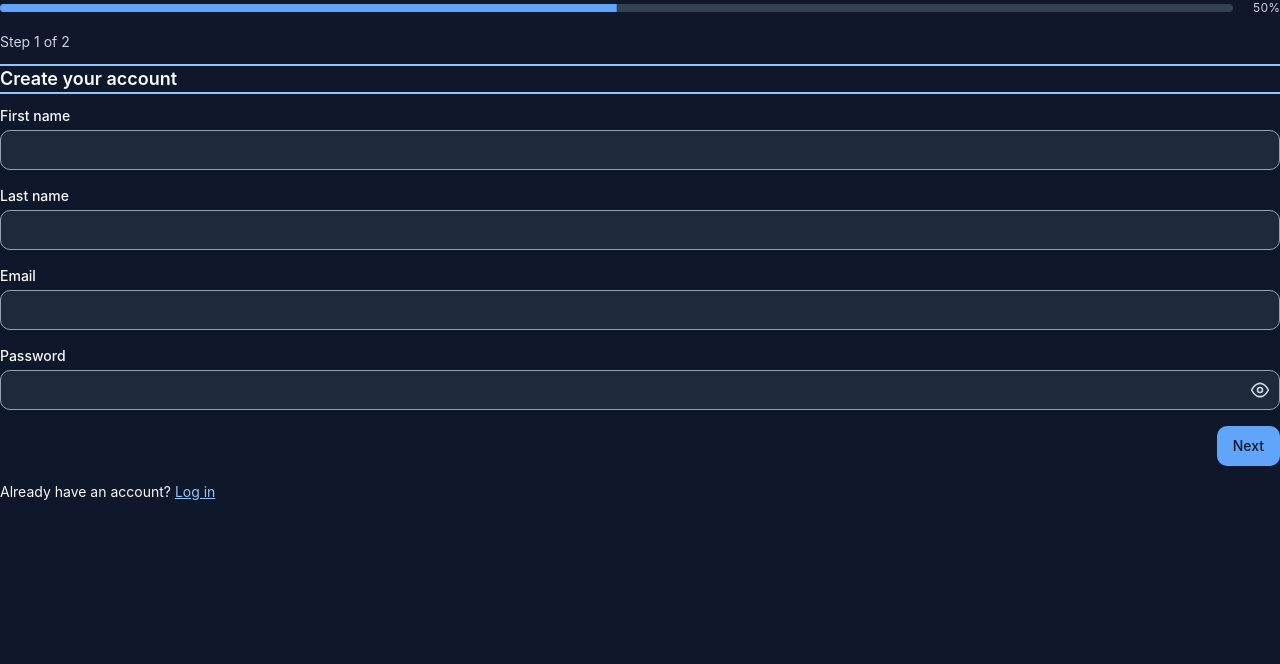
Test: MT-01 registration wizard › shows company and job title only when employed or freelance
The image size is (1280, 664).
Type "Ada" into the field labelled "First name". click: (640, 150)
box: [0,130,1279,170]
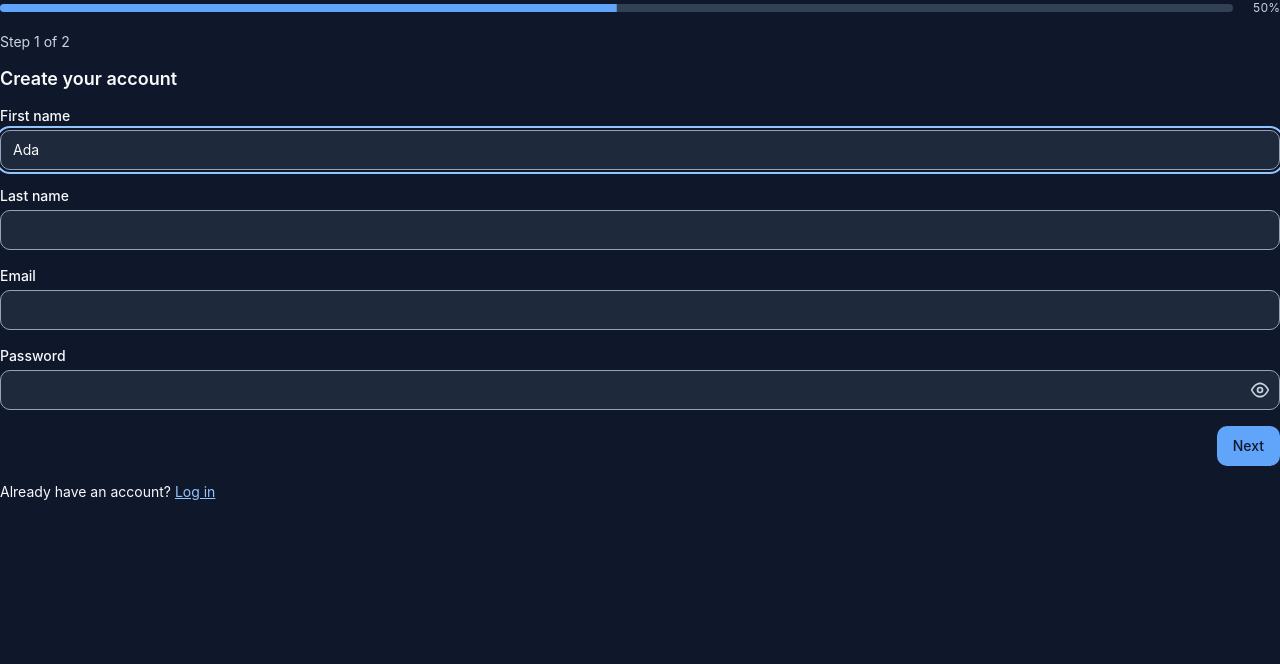
Type "Lovelace" into the field labelled "Last name". click: (640, 230)
box: [0,210,1279,250]
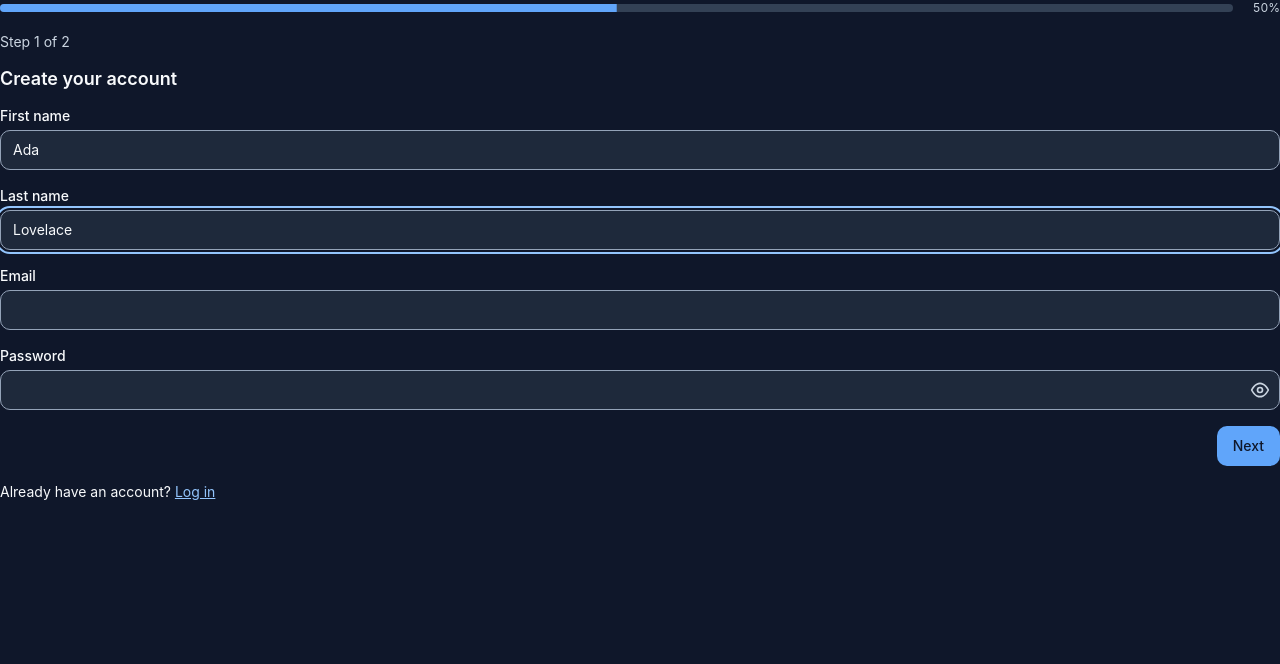
Type "ada@example.com" into the field labelled "Email". click: (640, 310)
box: [0,290,1279,330]
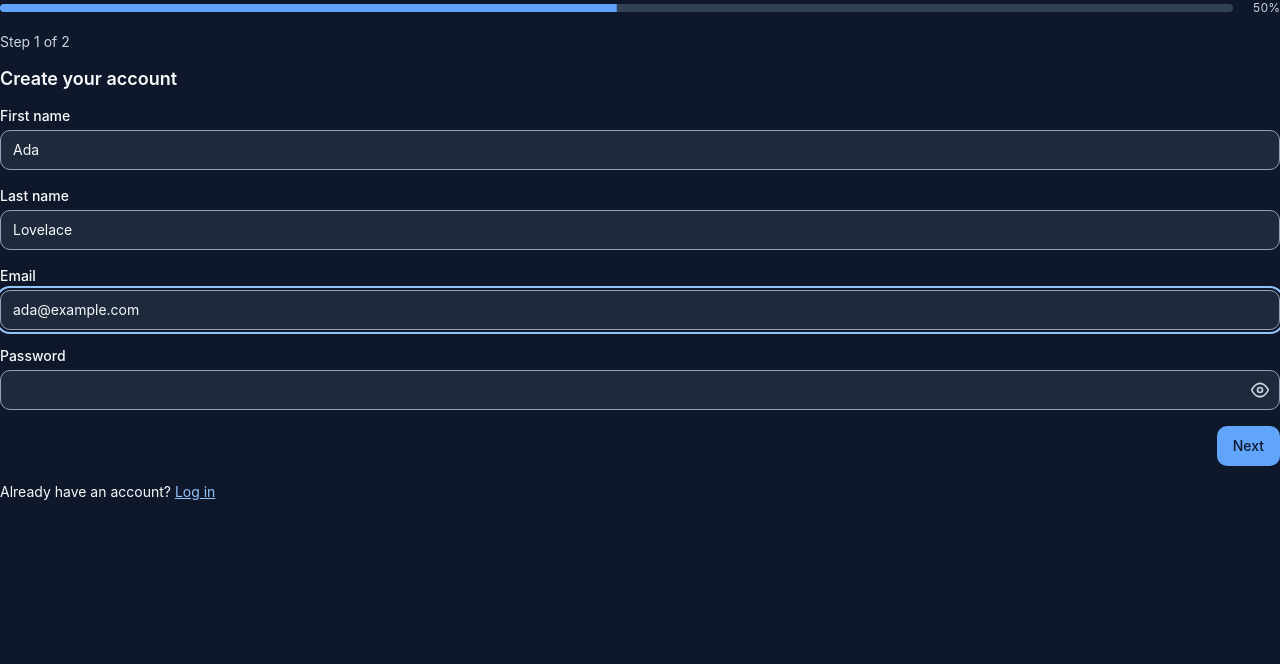
Type "password123456" into the password field labelled "Password". click: (640, 390)
box: [0,370,1279,410]
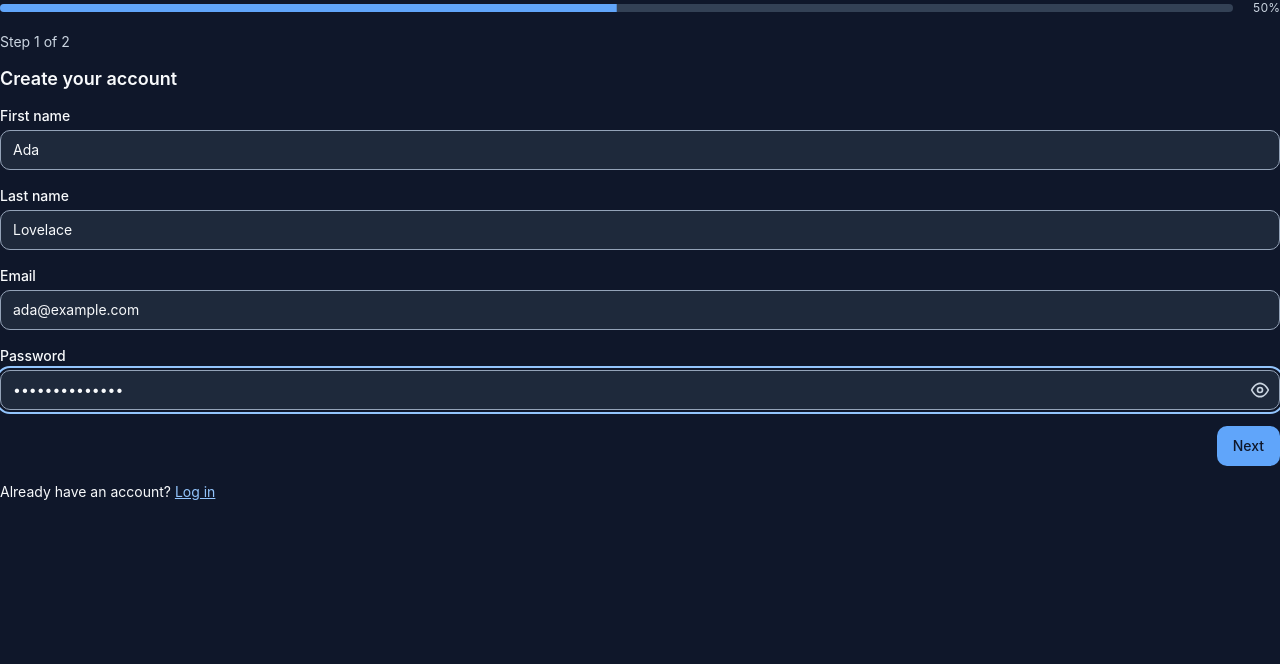
Click the button "Next". click: (1248, 446)
box: [1217,426,1279,466]
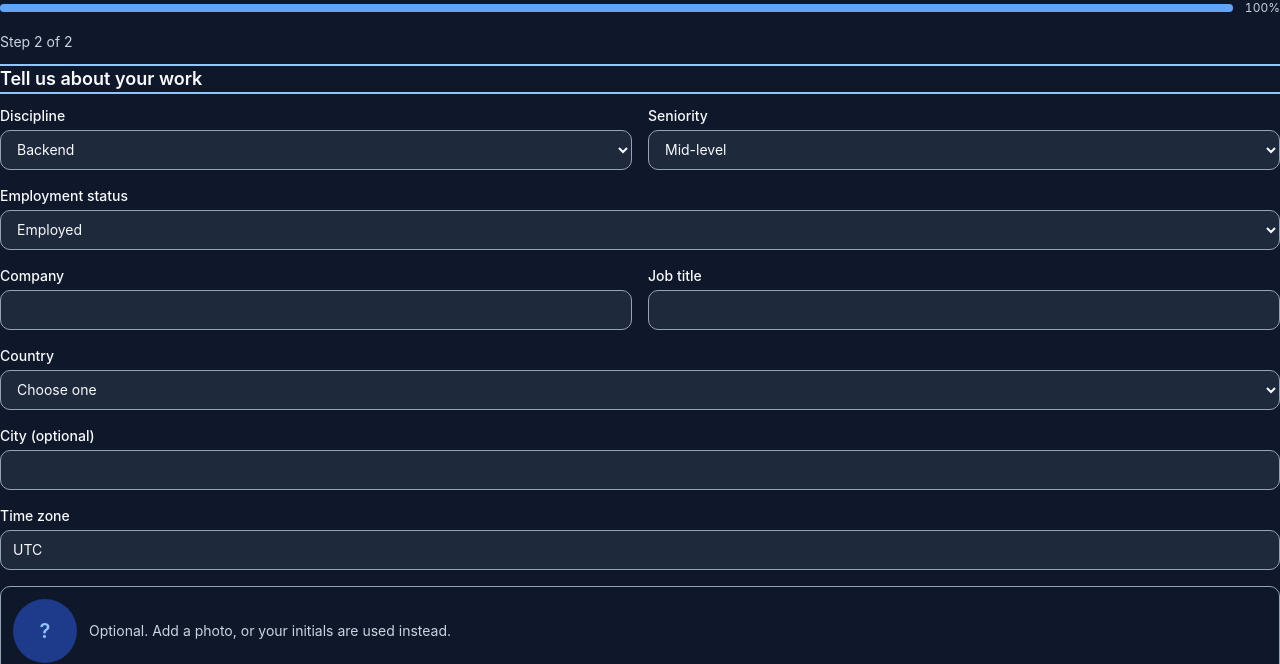
expect the heading "Tell us about your work" is shown: met, box [0,68,202,89]
expect the field labelled "Company" is shown: met, box [0,290,632,330]
Select "Student" in the dropdown labelled "Employment status". click: (640, 230)
box: [0,210,1279,250]
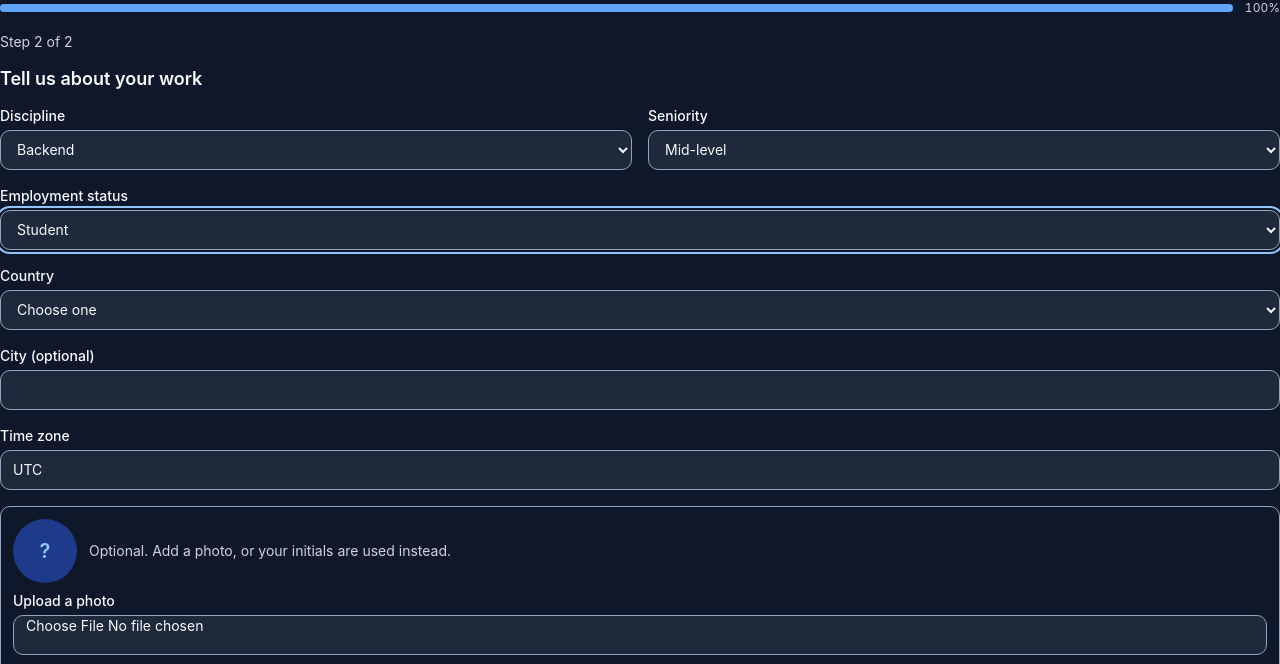
expect the label labelled "Company" is gone: met
